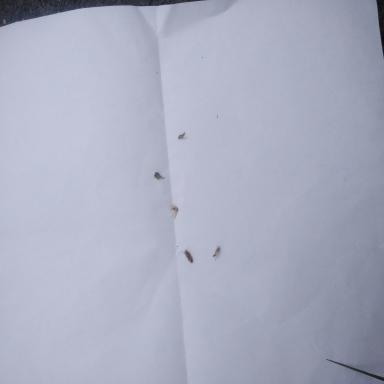pbw: (180, 249, 193, 264), (212, 246, 220, 261)
